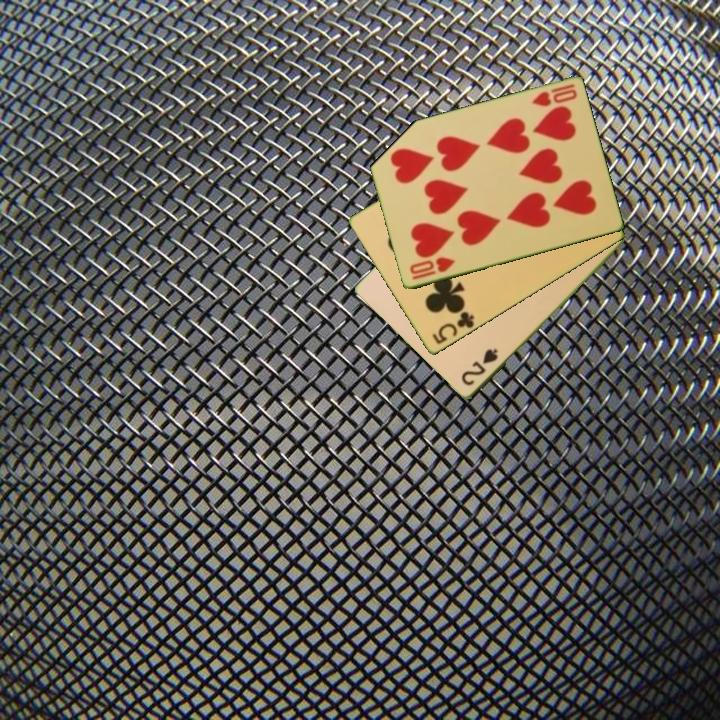10h: (406, 253, 458, 283), (528, 81, 580, 110)
2s: (458, 345, 501, 389)
5c: (428, 308, 477, 348)
